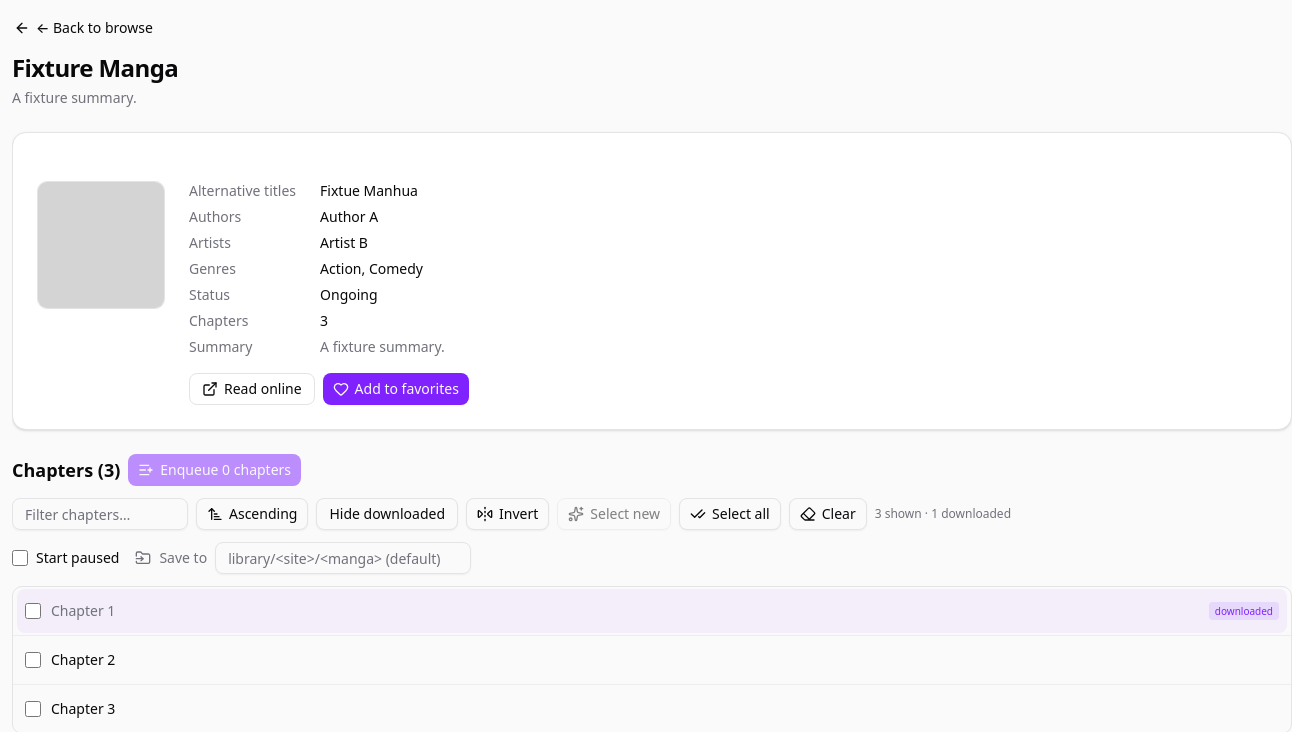
Test: MangaPage parity: add-to-favorites round-trip › adds via POST /api/favorites, reflects membership, then removes via DELETE
Check: the button "In favorites" is not shown
Check: the button "Select new" is disabled, box [557, 498, 671, 530]
What coordinates should you click on to do the following:
click the button "Add to favorites"
I would click on:
 (396, 389)
Its box is [323, 373, 469, 405].
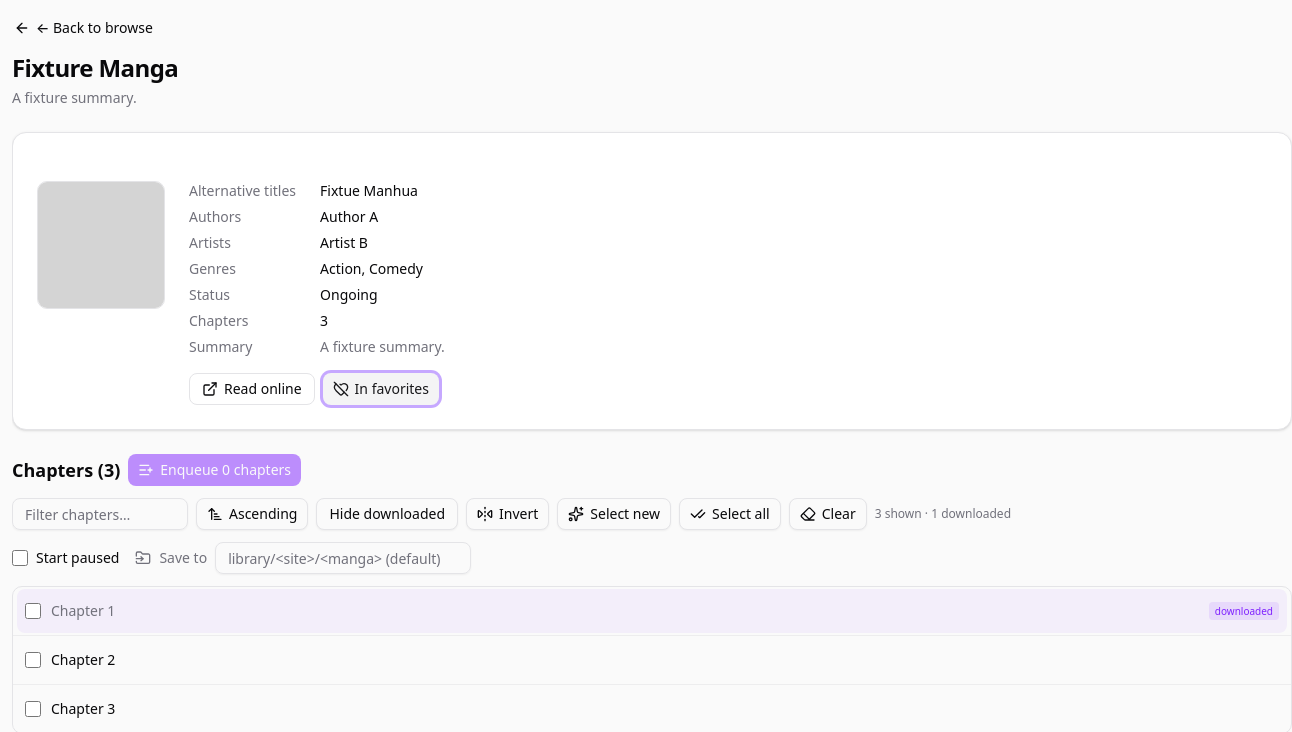
Check: the button "In favorites" is shown
Check: the button "Add to favorites" is gone
Check: the button "Select new" is enabled, box [557, 498, 671, 530]
What coordinates should you click on to do the following:
click the button "In favorites"
I would click on:
 (381, 389)
Its box is [323, 373, 439, 405].
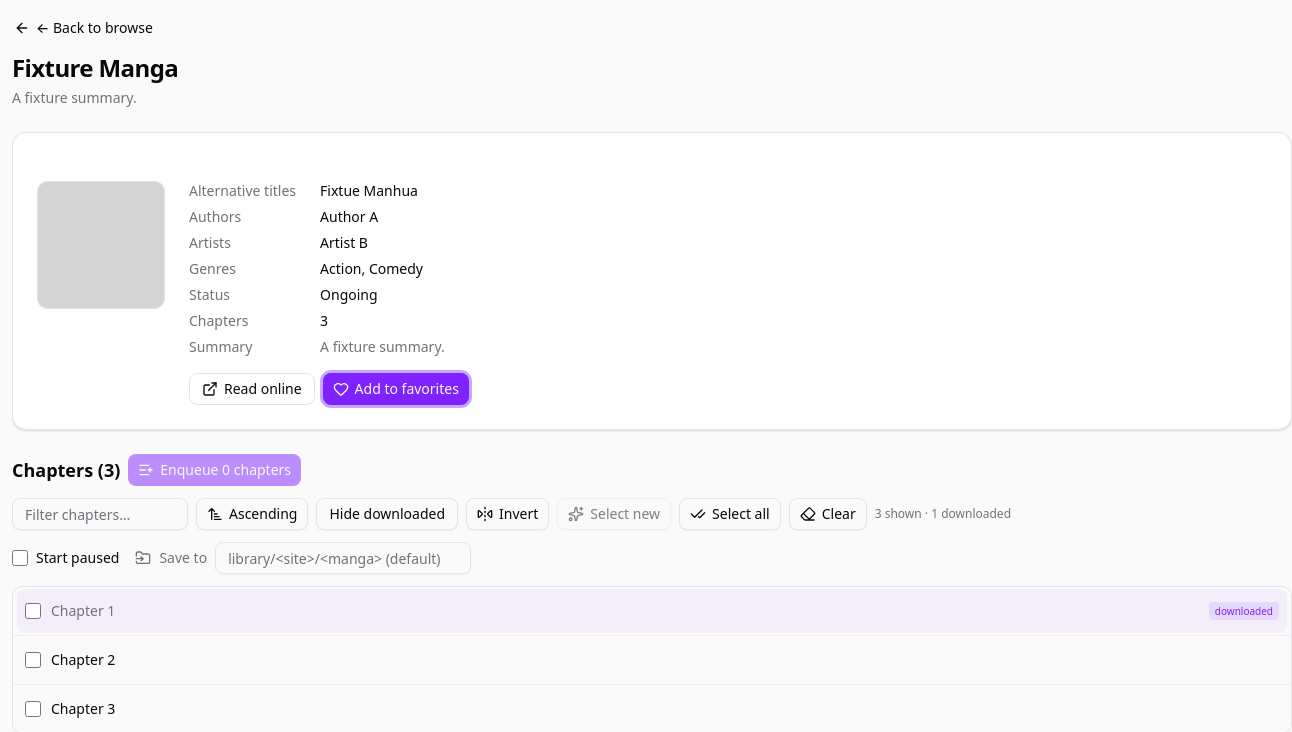
Check: the button "Add to favorites" is shown, box [323, 373, 469, 405]
